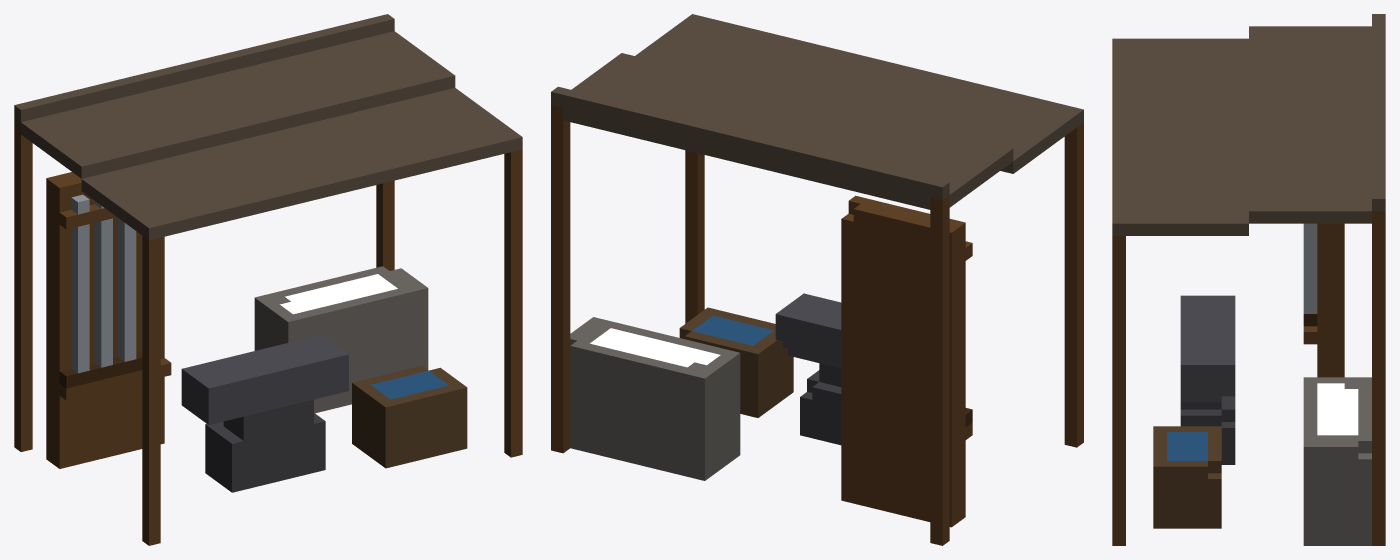
Rendered from stall_smith_lod1.glb.
3 views of the same model, side by side, from view 1: azimuth 30°, elevation 25°; view 2: azimuth 150°, elevation 25°; view 3: azimuth 270°, elevation 25° (orthographic). The views are drawn at different scales.
Parts seen in each view (by area): view 1: stall_smith; view 2: stall_smith; view 3: stall_smith.
Part boxes in pixels (x1,y1,x2,y2): stall_smith: [14, 14, 522, 545]; stall_smith: [551, 14, 1083, 545]; stall_smith: [1112, 14, 1385, 545].
Size of the model in its own units: 3.2 by 2.8 by 2.
